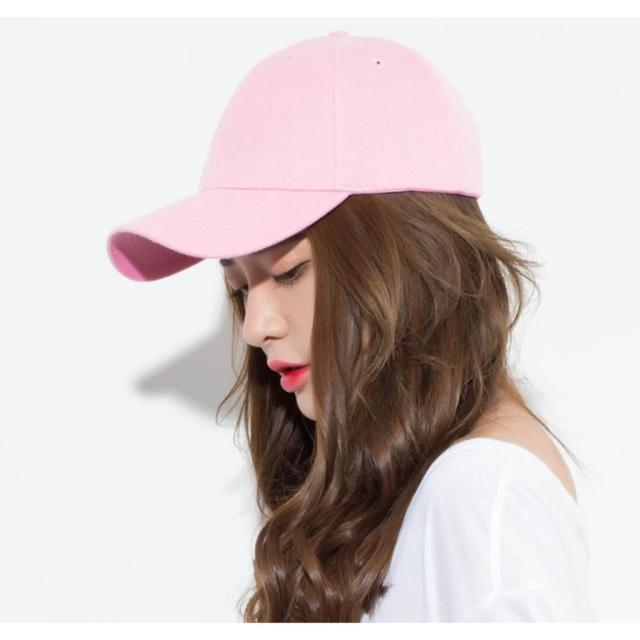Cap: (104, 27, 491, 282)
